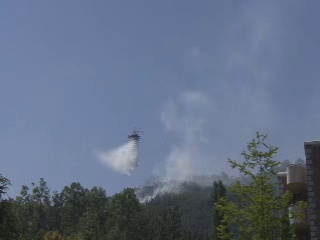smoke: (206, 46, 264, 186), (145, 90, 209, 203), (98, 138, 142, 179)
